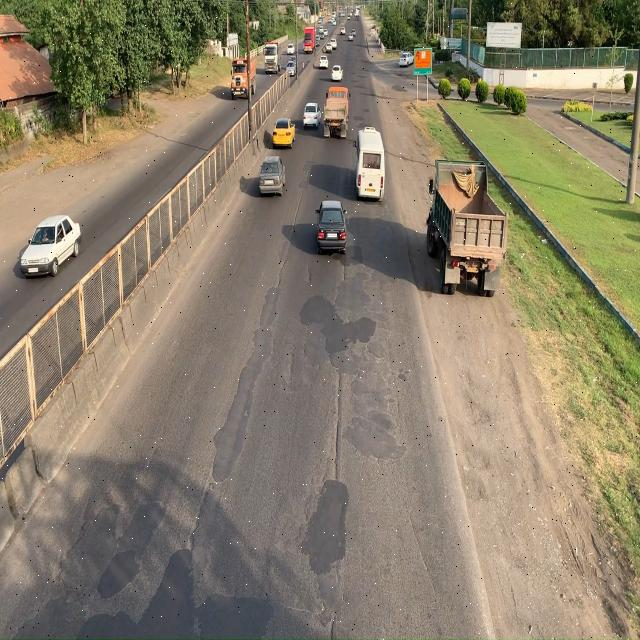Bus: (354, 124, 390, 203)
Truck: (424, 156, 508, 298), (228, 52, 259, 97)
cars: (22, 210, 82, 281), (317, 194, 347, 262), (260, 156, 286, 199), (272, 116, 296, 151), (302, 98, 322, 133)
